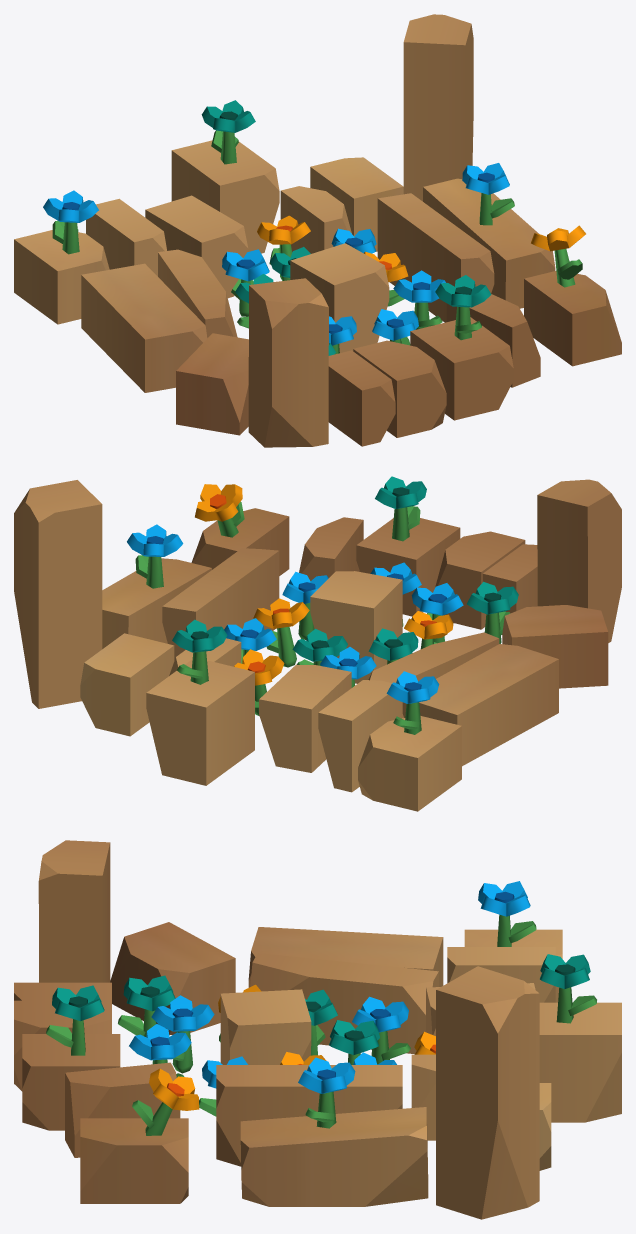
Rendered from plant-ruin-02.glb.
The picture shows the model from 3 angles, top to bottom: view 1: azimuth 30°, elevation 25°; view 2: azimuth 150°, elevation 25°; view 3: azimuth 270°, elevation 25°; orthographic projection. The views are drawn at different scales.
Parts seen in each view (by area): view 1: plant ruin 02; view 2: plant ruin 02; view 3: plant ruin 02.
Part boxes in pixels (x1,y1,x2,y2): plant ruin 02: [14, 14, 621, 447]; plant ruin 02: [14, 476, 621, 811]; plant ruin 02: [14, 840, 621, 1219].
Bounding box in the file's own units: 2.09 × 0.8633 × 2.21.
1 material, 1 textured.
